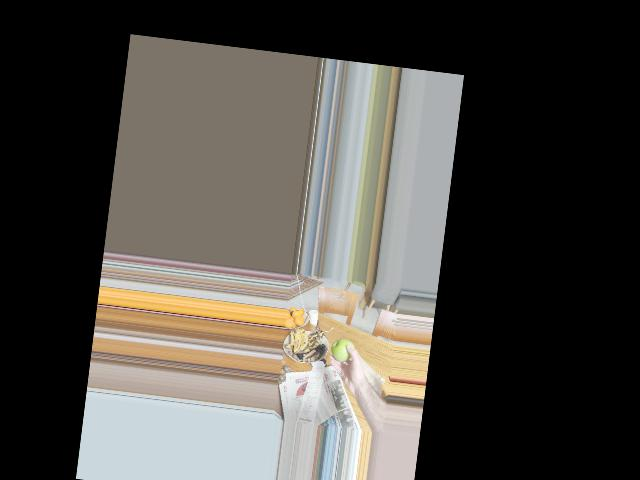apple: (329, 335, 357, 366)
